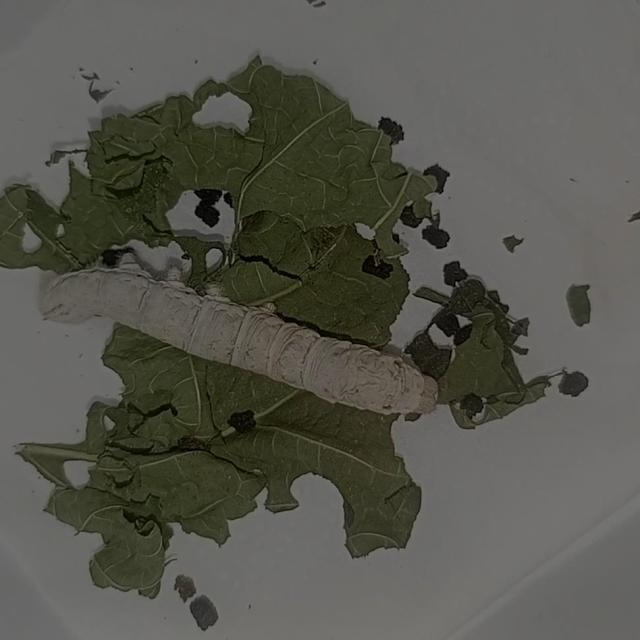Healthy: (38, 246, 449, 432)
